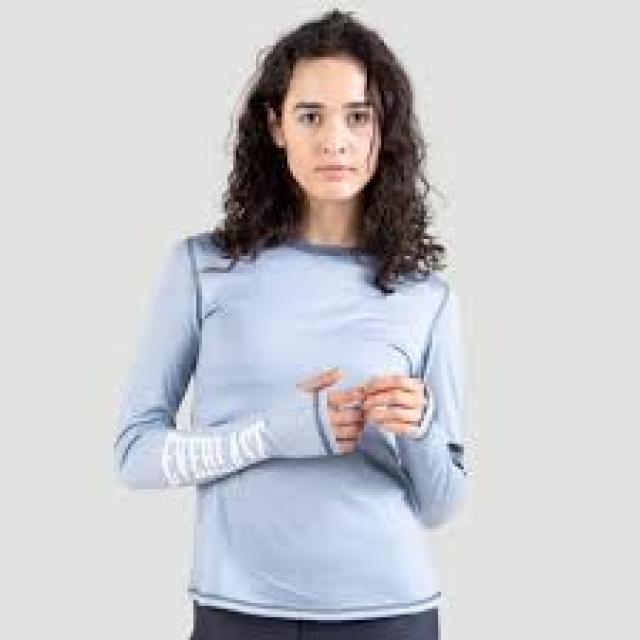plain: (101, 228, 478, 600)
